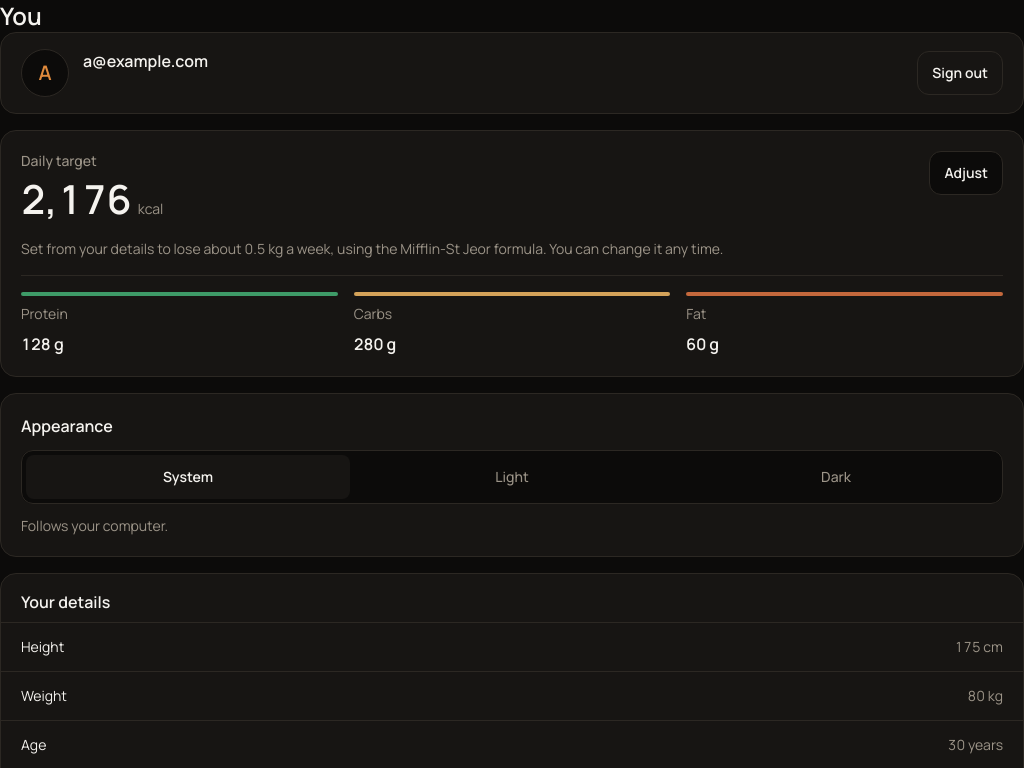
it: the You screen › opens the question behind Height 175 cm, filled in
The width and height of the screenshot is (1024, 768).
What coordinates should you click on to do the following:
click the link "Height 175 cm"
I would click on:
 (43, 646)
Its box is [1, 622, 1023, 671].
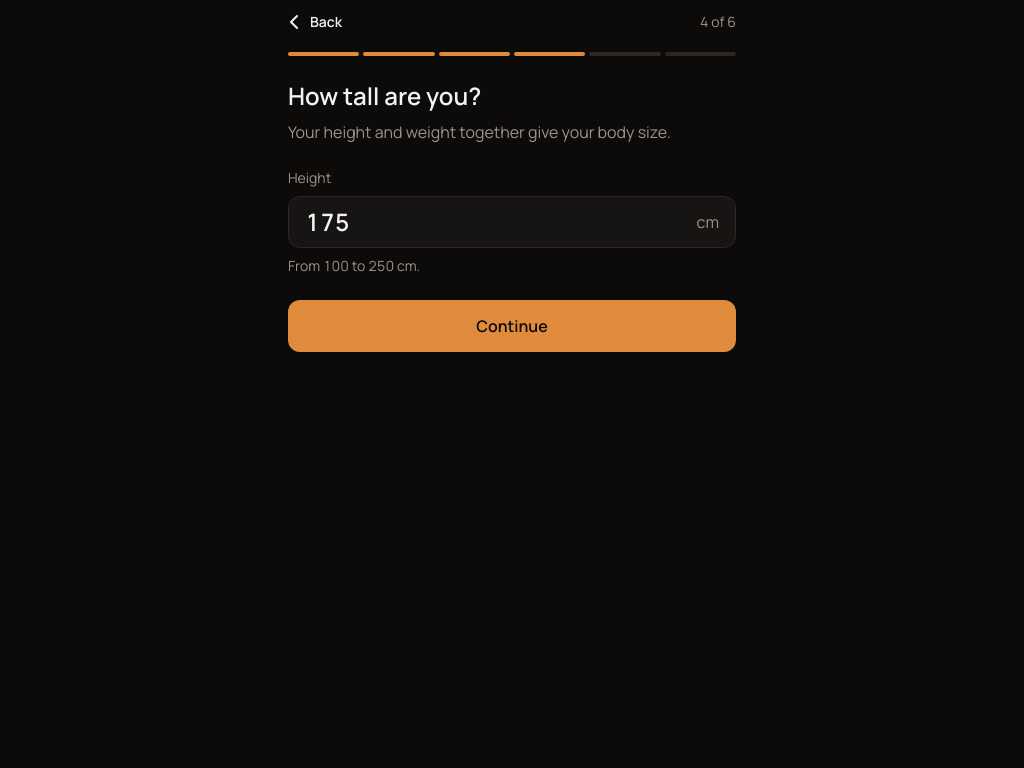
Result: the field labelled "Height" holds "175" at [305, 206, 685, 238]
